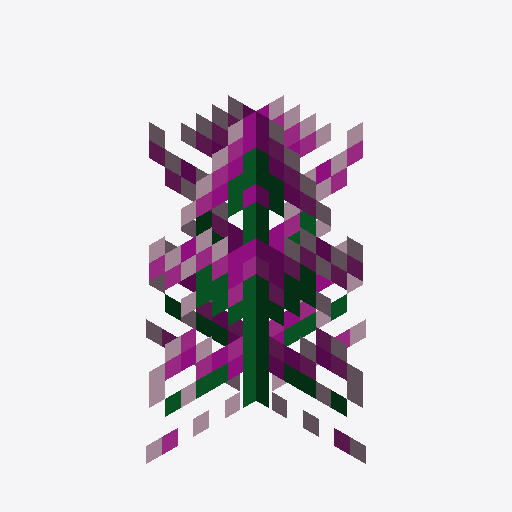
Isometric view (azimuth 45°, elevation 35.3°) of a Minecraft model made of 86 cuboids, textured from the same repository.
Visible parts, largest first — TopStalk (×2), element 4, element 47, element 18, element 65, element 19, element 66, element 38, element 79, element 40, element 75, element 17 (+27 smaller).
Part boxes in pixels (x1,y1,x2,y2): TopStalk (×2): (243,104,268,407); element 4: (269,119,283,217); element 47: (228,119,242,217); element 18: (284,236,299,316); element 65: (212,236,227,316); element 19: (300,227,315,307); element 66: (196,227,211,307); element 38: (269,336,299,389); element 79: (212,336,242,389); element 40: (316,327,346,380); element 75: (165,327,195,380); element 17: (269,246,283,325).
Bounding box in the file's own units: 14 × 16 × 14.